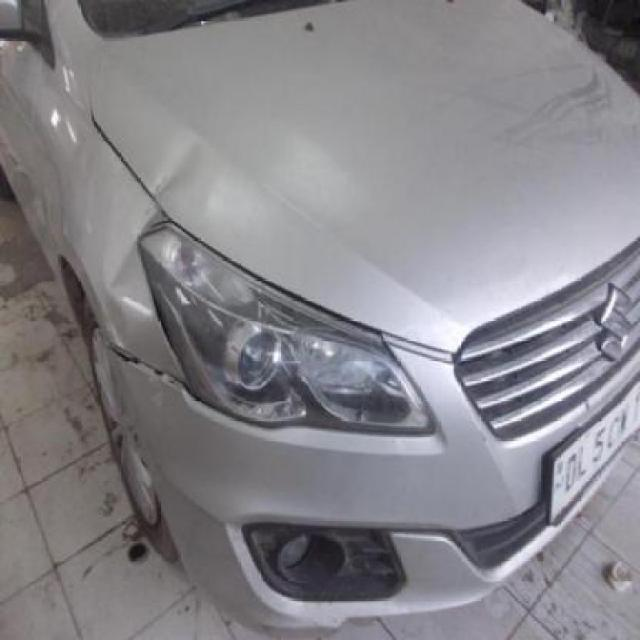damage: (104, 194, 159, 316), (97, 330, 191, 392), (154, 136, 199, 202)
